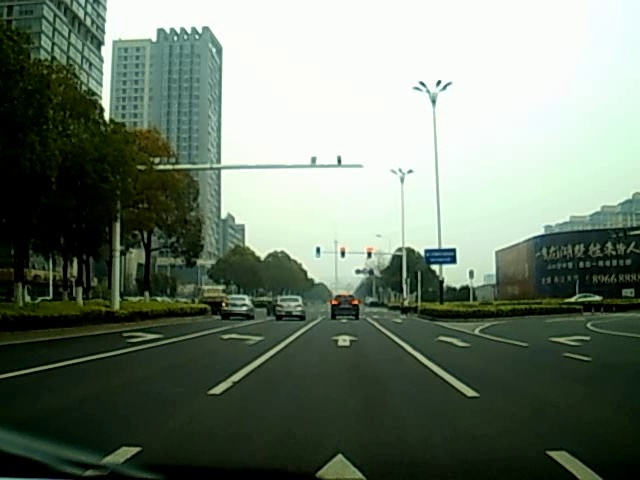Traffic_Light_stop: (366, 248, 375, 263), (340, 247, 346, 261)
